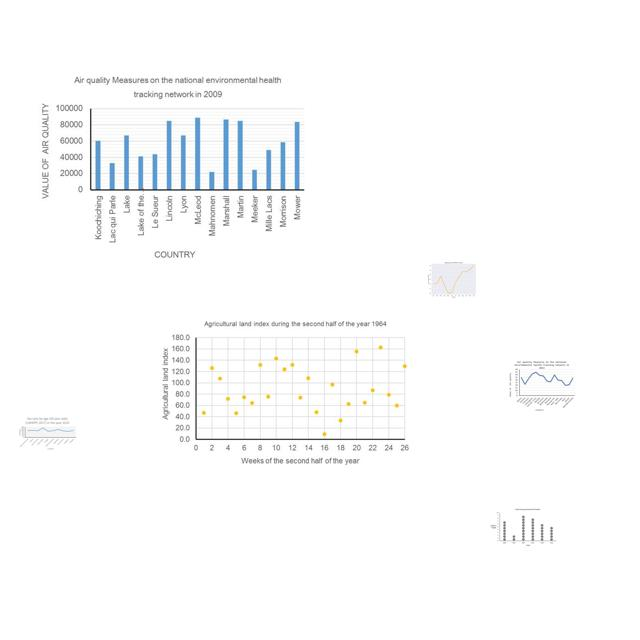Graph: (34, 68, 309, 265), (160, 317, 412, 470), (506, 360, 578, 412), (488, 507, 558, 548), (424, 259, 482, 299), (18, 416, 77, 451)
